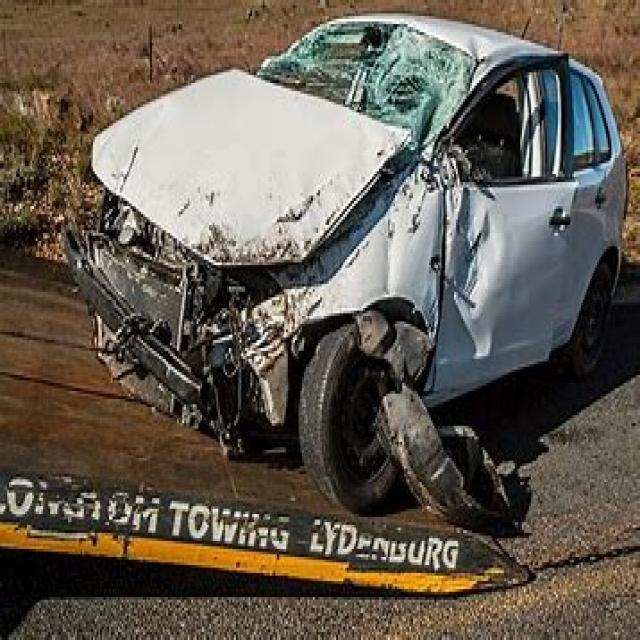Accident: (81, 52, 586, 479)
